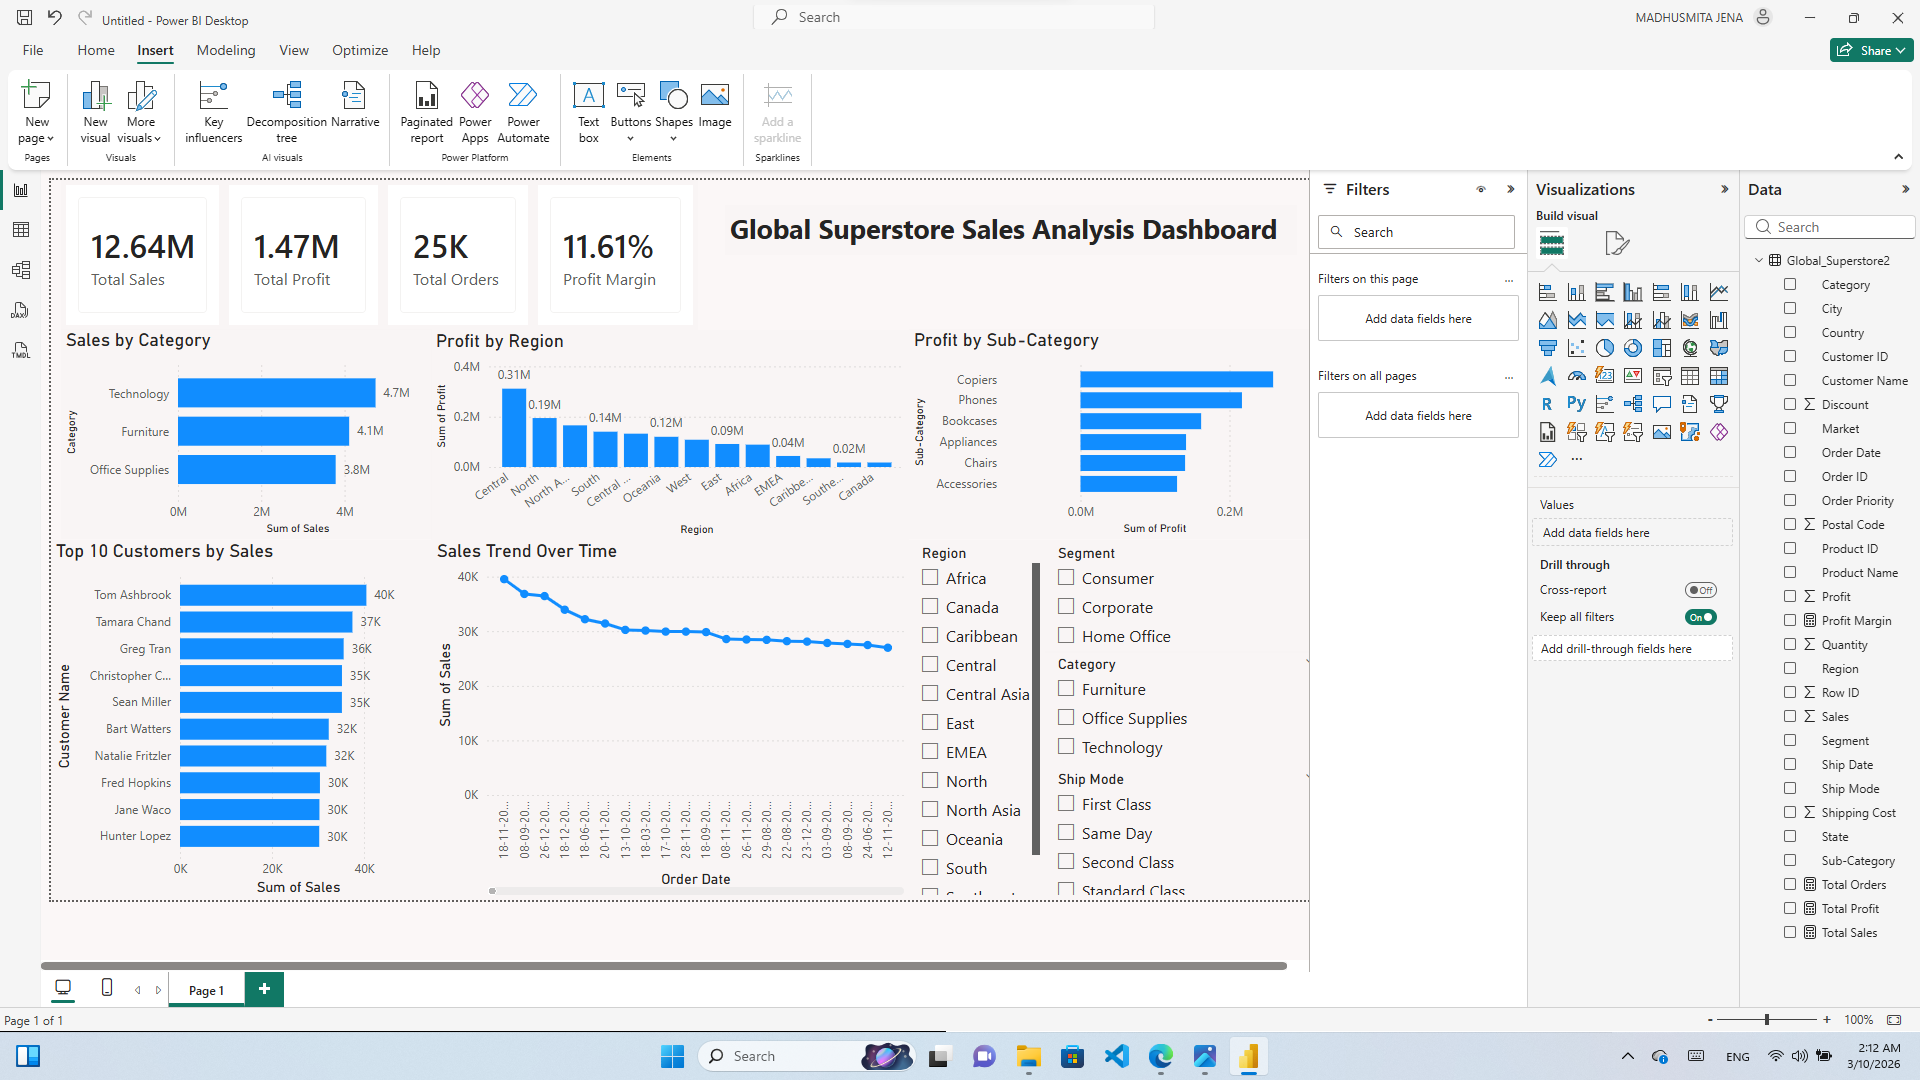

The dashboard page shown, as its layout file describes it:
{"tool":"powerbi","page":{"name":"Page 1","canvas":[1280,720],"ordinal":0},"visuals":[{"type":"cardVisual","fields":{"Data":["Global_Superstore2.Total Sales"]},"box":[9.7,0,163.4,149.8],"z":0},{"type":"cardVisual","fields":{"Data":["Global_Superstore2.Total Profit"]},"box":[173.1,0,158.5,149.8],"z":1},{"type":"cardVisual","fields":{"Data":["Global_Superstore2.Total Orders"]},"box":[331.7,0,150.8,149.8],"z":2},{"type":"cardVisual","fields":{"Data":["Global_Superstore2.Profit Margin"]},"box":[482.4,0,164.4,149.8],"z":3},{"type":"clusteredBarChart","title":"Sales by Category","fields":{"Category":["Global_Superstore2.Category"],"Y":["Sum(Global_Superstore2.Sales)"]},"box":[10.1,149.4,370.5,210],"z":4},{"type":"clusteredColumnChart","title":"Profit by Region","fields":{"Category":["Global_Superstore2.Region"],"Y":["Sum(Global_Superstore2.Profit)"]},"box":[380.3,149.8,477.6,210.1],"z":5},{"type":"barChart","title":"Top 10 Customers by Sales","fields":{"Category":["Global_Superstore2.Customer Name"],"Y":["Sum(Global_Superstore2.Sales)"]},"box":[0,359.6,380.5,360.6],"z":6},{"type":"lineChart","title":"Sales Trend Over Time","fields":{"Category":["Global_Superstore2.Order Date"],"Y":["Sum(Global_Superstore2.Sales)"]},"box":[380.5,359.6,477.1,360.6],"z":7},{"type":"clusteredBarChart","title":"Profit by Sub-Category","fields":{"Category":["Global_Superstore2.Sub-Category"],"Y":["Sum(Global_Superstore2.Profit)"]},"box":[858,149.4,422,210],"z":8},{"type":"slicer","fields":{"Values":["Global_Superstore2.Region"]},"box":[858,360.4,136.3,359.4],"z":9},{"type":"slicer","fields":{"Values":["Global_Superstore2.Segment"]},"box":[994.3,360.4,285.7,113.1],"z":10},{"type":"slicer","fields":{"Values":["Global_Superstore2.Category"]},"box":[994.3,471.4,285.7,115.1],"z":11},{"type":"slicer","fields":{"Values":["Global_Superstore2.Ship Mode"]},"box":[994.3,586.5,285.7,133.2],"z":12},{"type":"textbox","box":[674,25,572,50],"z":13}]}

Visuals, with their boxes on the page's 1280x720 design canvas (x1, y1, x2, y2). These are canvas units, not pixel positions in the 1920x1080 screenshot, which may show the page scaled, cropped or inside an application window:
cardVisual - Global_Superstore2.Total Sales: BBox(10, 0, 173, 150)
cardVisual - Global_Superstore2.Total Profit: BBox(173, 0, 332, 150)
cardVisual - Global_Superstore2.Total Orders: BBox(332, 0, 482, 150)
cardVisual - Global_Superstore2.Profit Margin: BBox(482, 0, 647, 150)
"Sales by Category" clusteredBarChart: BBox(10, 149, 381, 359)
"Profit by Region" clusteredColumnChart: BBox(380, 150, 858, 360)
"Top 10 Customers by Sales" barChart: BBox(0, 360, 380, 720)
"Sales Trend Over Time" lineChart: BBox(380, 360, 858, 720)
"Profit by Sub-Category" clusteredBarChart: BBox(858, 149, 1280, 359)
slicer - Global_Superstore2.Region: BBox(858, 360, 994, 720)
slicer - Global_Superstore2.Segment: BBox(994, 360, 1280, 474)
slicer - Global_Superstore2.Category: BBox(994, 471, 1280, 586)
slicer - Global_Superstore2.Ship Mode: BBox(994, 586, 1280, 720)
textbox: BBox(674, 25, 1246, 75)
